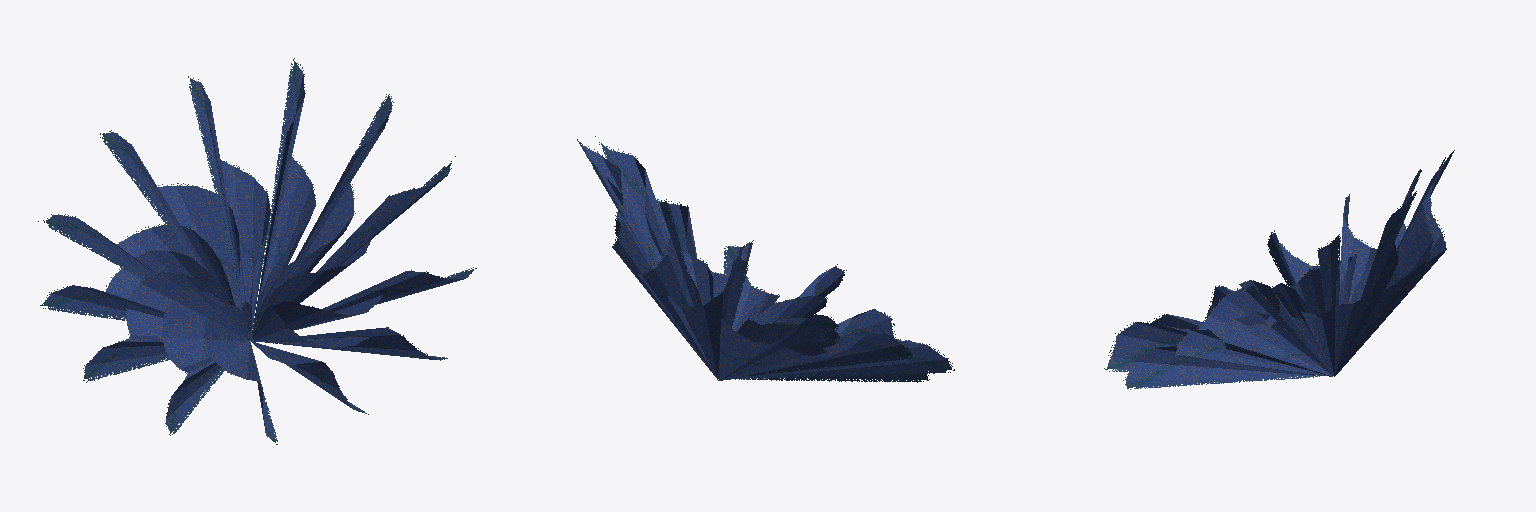
The picture shows the model from 3 angles: view 1: azimuth 30°, elevation 25°; view 2: azimuth 150°, elevation 25°; view 3: azimuth 270°, elevation 25°; orthographic projection.
Size of the model in its own units: 12.14 by 7.9 by 10.1.
1 materials, 1 textured.